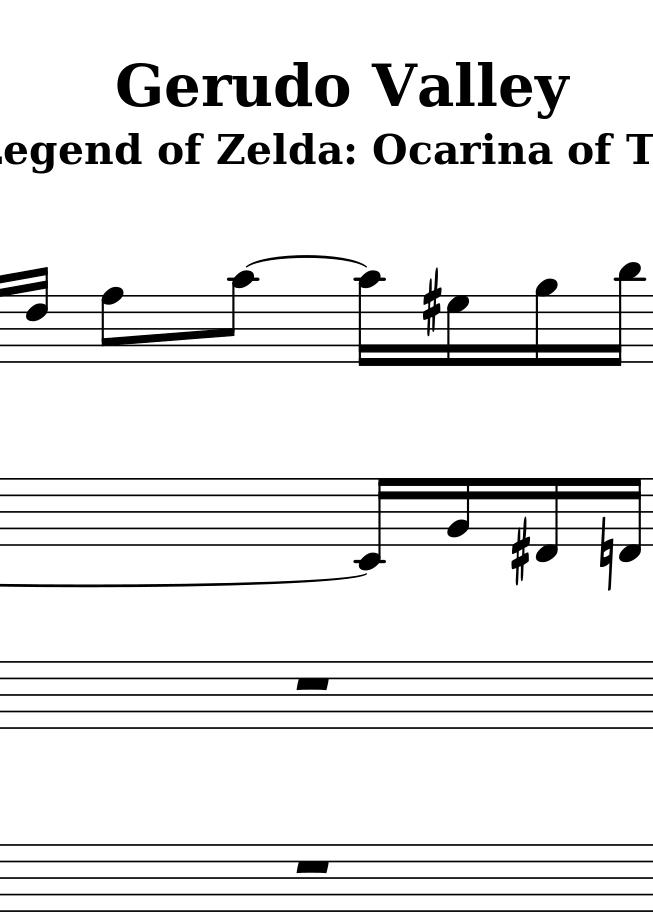16_-1: (535, 474, 560, 569), (619, 475, 643, 567)
16_-2: (355, 476, 393, 571)
16_10: (357, 271, 382, 368)
16_11: (608, 262, 640, 369)
16_2: (446, 476, 472, 547)
16_6: (26, 266, 52, 363)
16_7: (444, 291, 469, 369)
16_9: (533, 277, 556, 370)
8_10: (222, 270, 253, 365)
8_8: (99, 285, 124, 366)
Natural: (598, 519, 615, 587)
Rests1: (293, 857, 334, 876), (292, 675, 334, 693)
Sharp: (420, 270, 443, 337), (510, 519, 531, 586)
